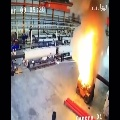fire: (76, 29, 95, 87)
